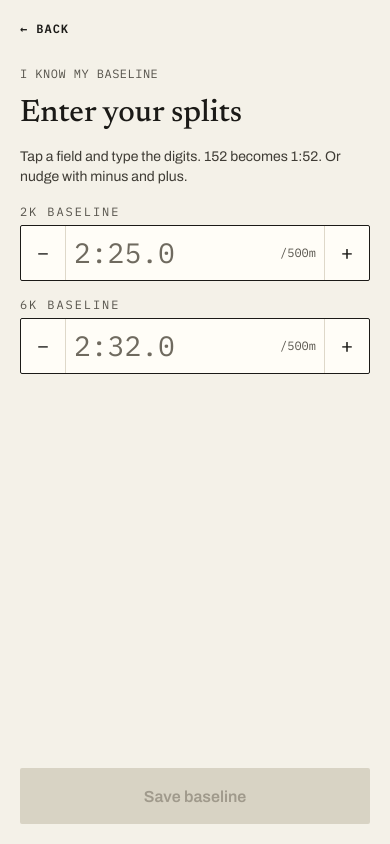
Test: KnowBaseline (door 2) › Save is disabled until a field is actually typed in — tapping Save must never write the untouched seeds
This screenshot has width=390, height=844.
Expected: the button "Save baseline" is disabled, [20,768,370,824]
Step 1. Type "158" into the field named "2k split" → (173,253), box [74,231,272,275]
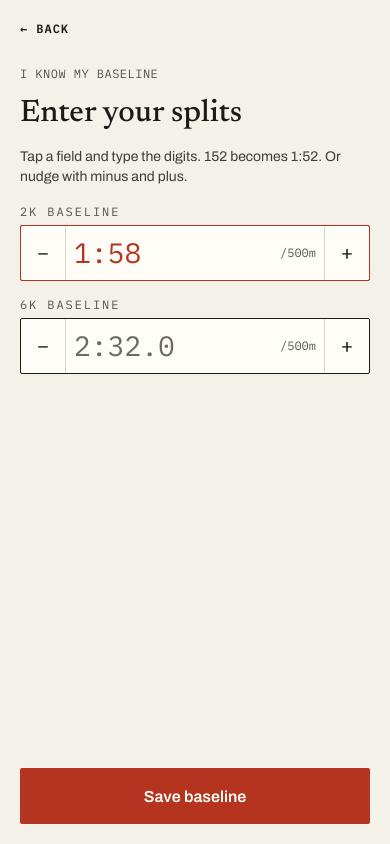
Now the button "Save baseline" is enabled, box [20,768,370,824]
